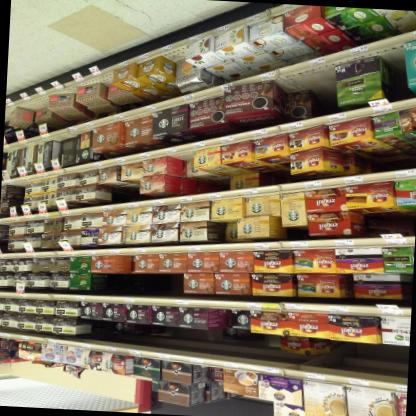empty_space: (281, 60, 334, 107)
